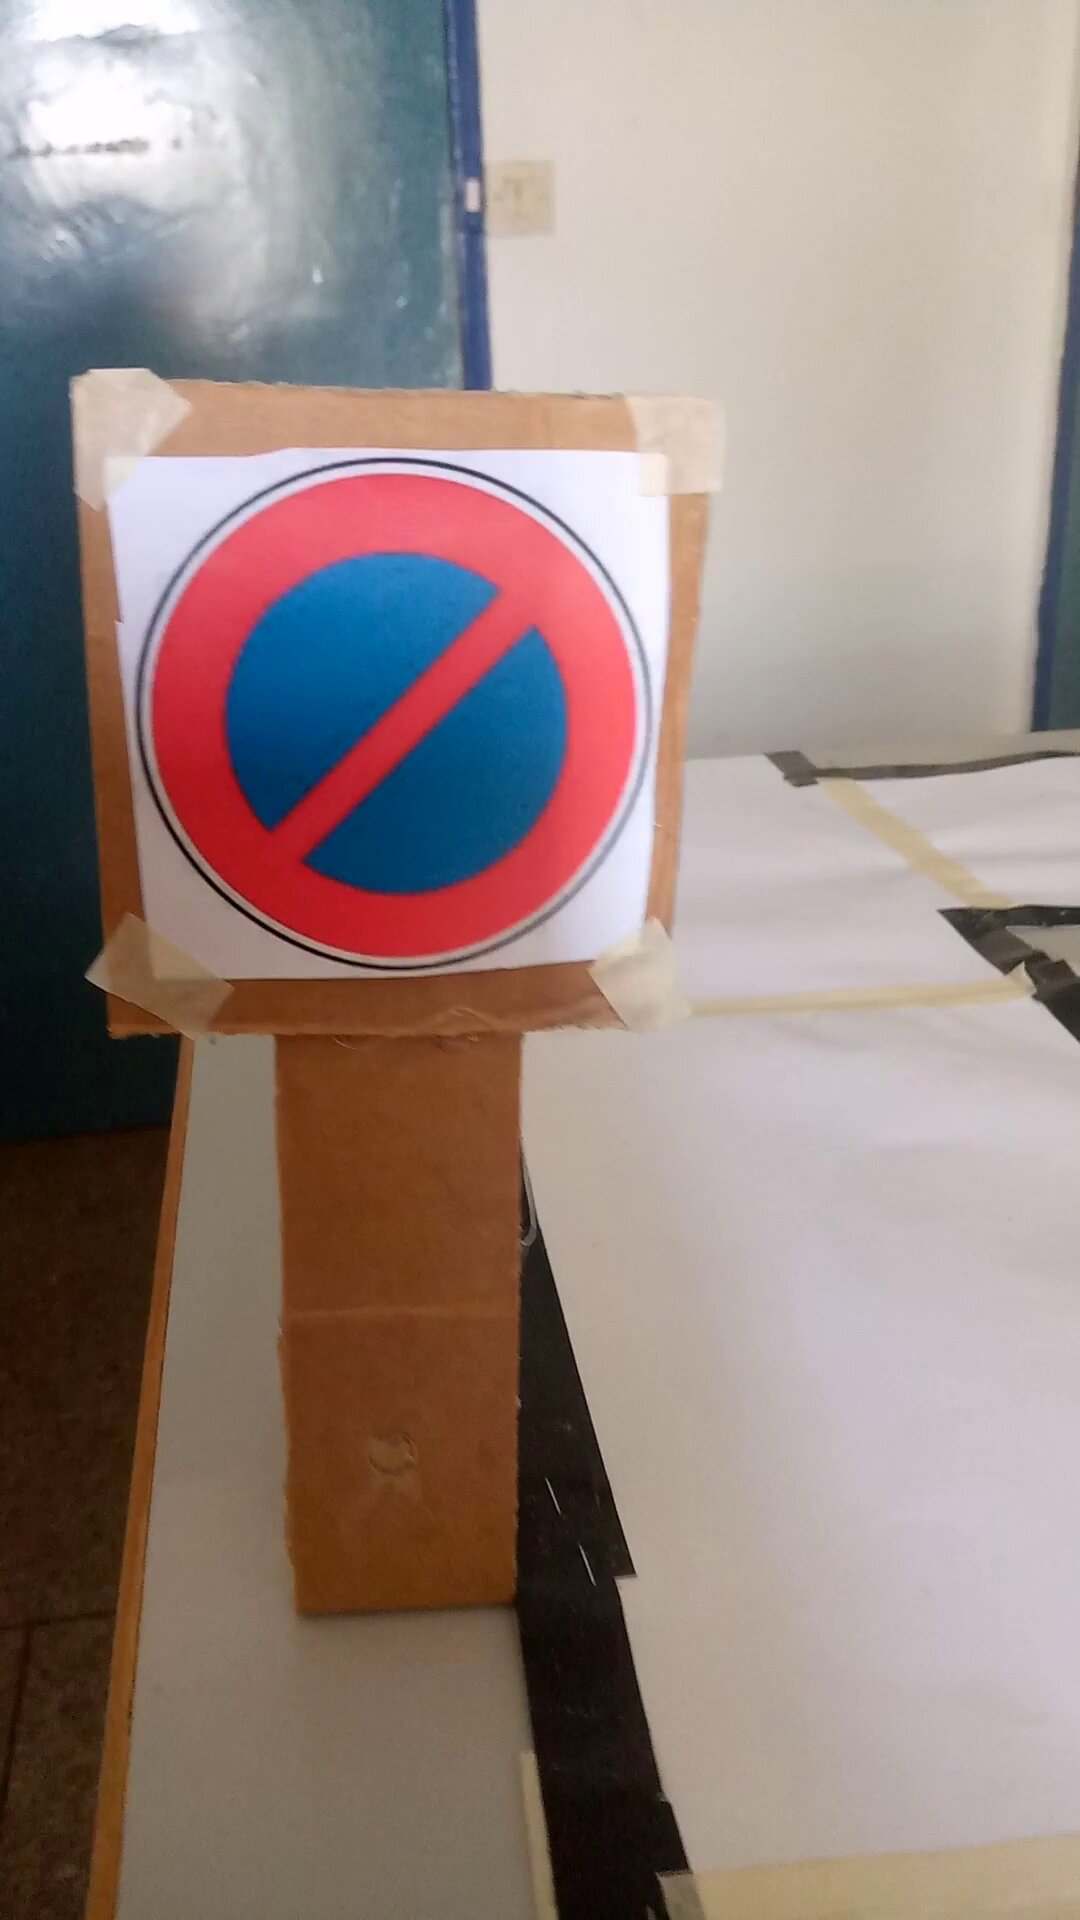panel110: (102, 434, 670, 969)
